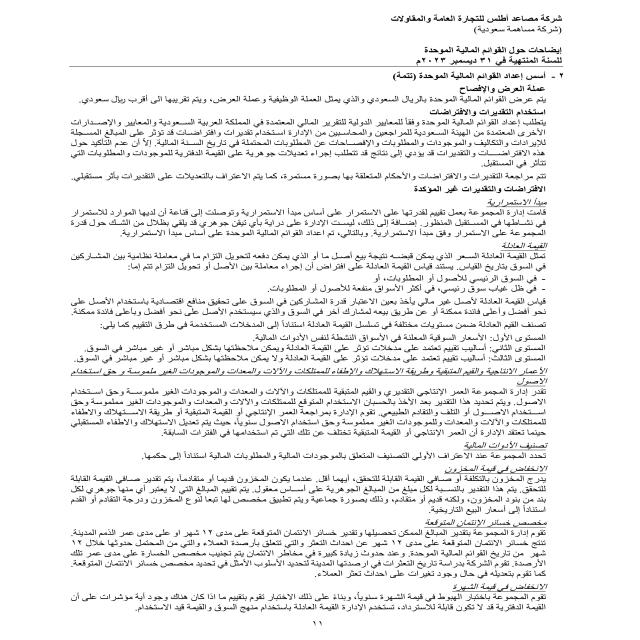notes: (407, 44, 565, 56)
text: (38, 69, 575, 617)
